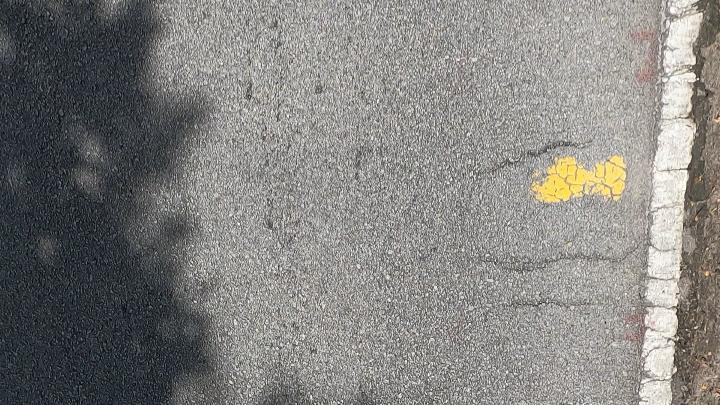Crack: (474, 244, 630, 318), (475, 128, 602, 187), (480, 135, 593, 177), (483, 251, 619, 272), (493, 293, 624, 314)
Lane: (634, 0, 703, 405), (639, 0, 702, 404)
